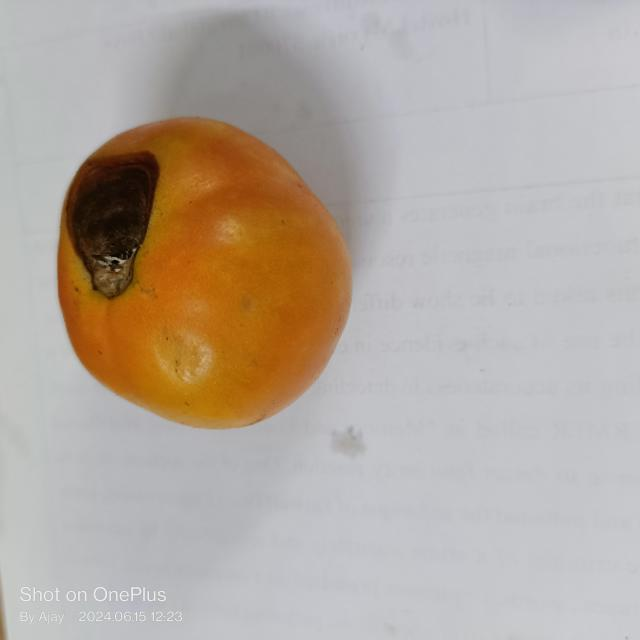Anthrocnose: (69, 146, 162, 297)
